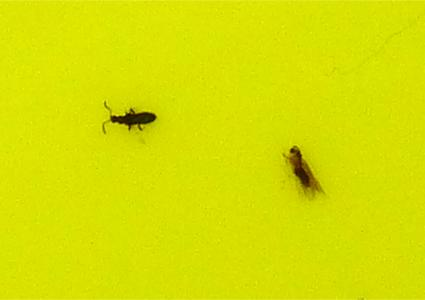Coleoptera: (100, 100, 159, 134)
Hemiptera: (281, 143, 325, 200)
